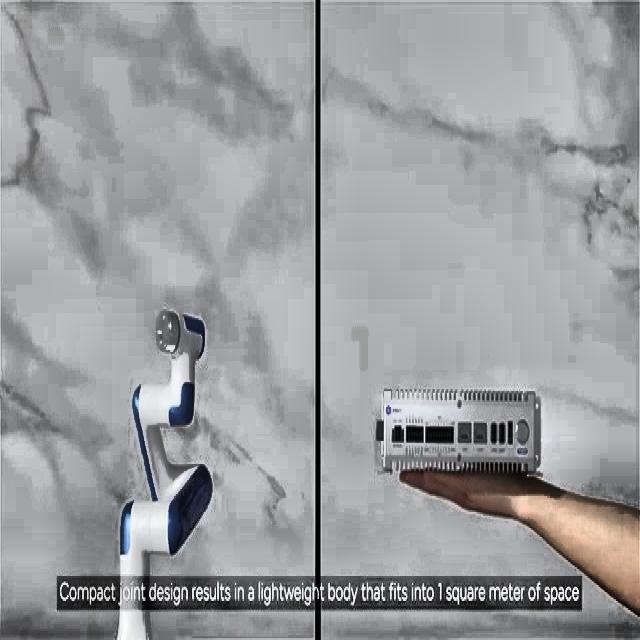human: (399, 466, 639, 617)
robot: (115, 308, 212, 636)
